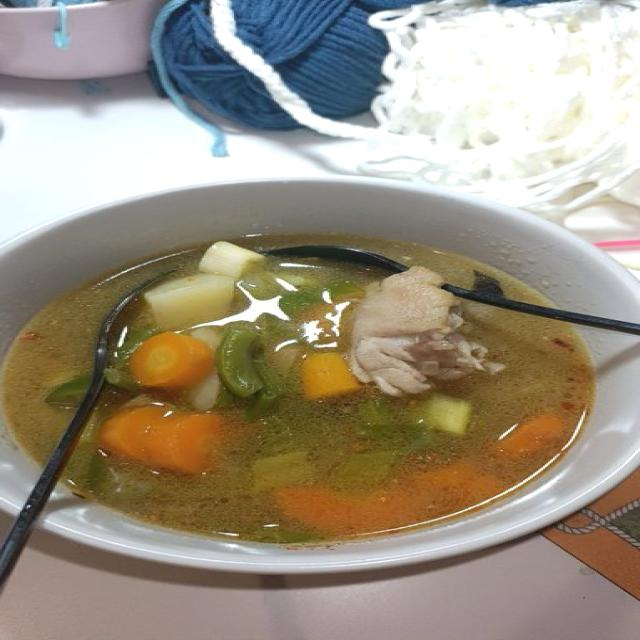sop: (2, 232, 603, 556)
